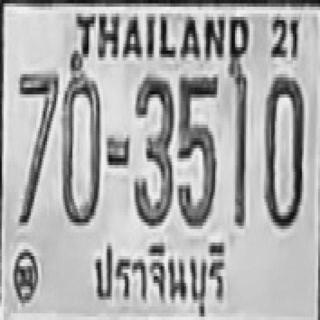N00: (264, 74, 302, 226), (62, 72, 100, 224)
N01: (232, 64, 247, 226)
N03: (132, 74, 174, 226)
N05: (176, 74, 217, 226)
N07: (18, 71, 58, 226)
P49: (87, 236, 236, 320)
